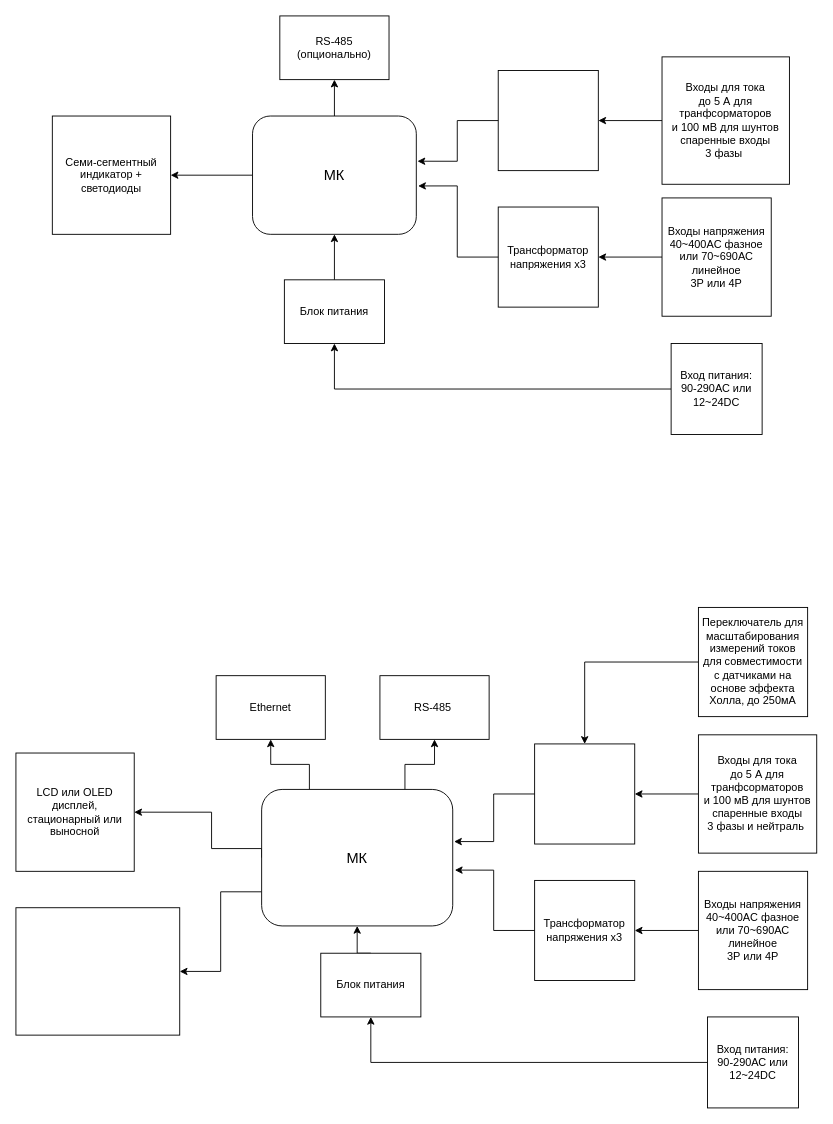
Some shapes in this 833 by 1124 pixel diagram are drawn without their labels. The centre of each missing label's shape, as x and y in pixels:
"Блок сигнализации (выход) Сухой вонтакт и/или 4-20мА и/или 0-10В" goes at (x=97, y=971).
"Трансформатор тока х3" goes at (x=547, y=120).
"Трансформатор тока х4" goes at (x=584, y=793).
